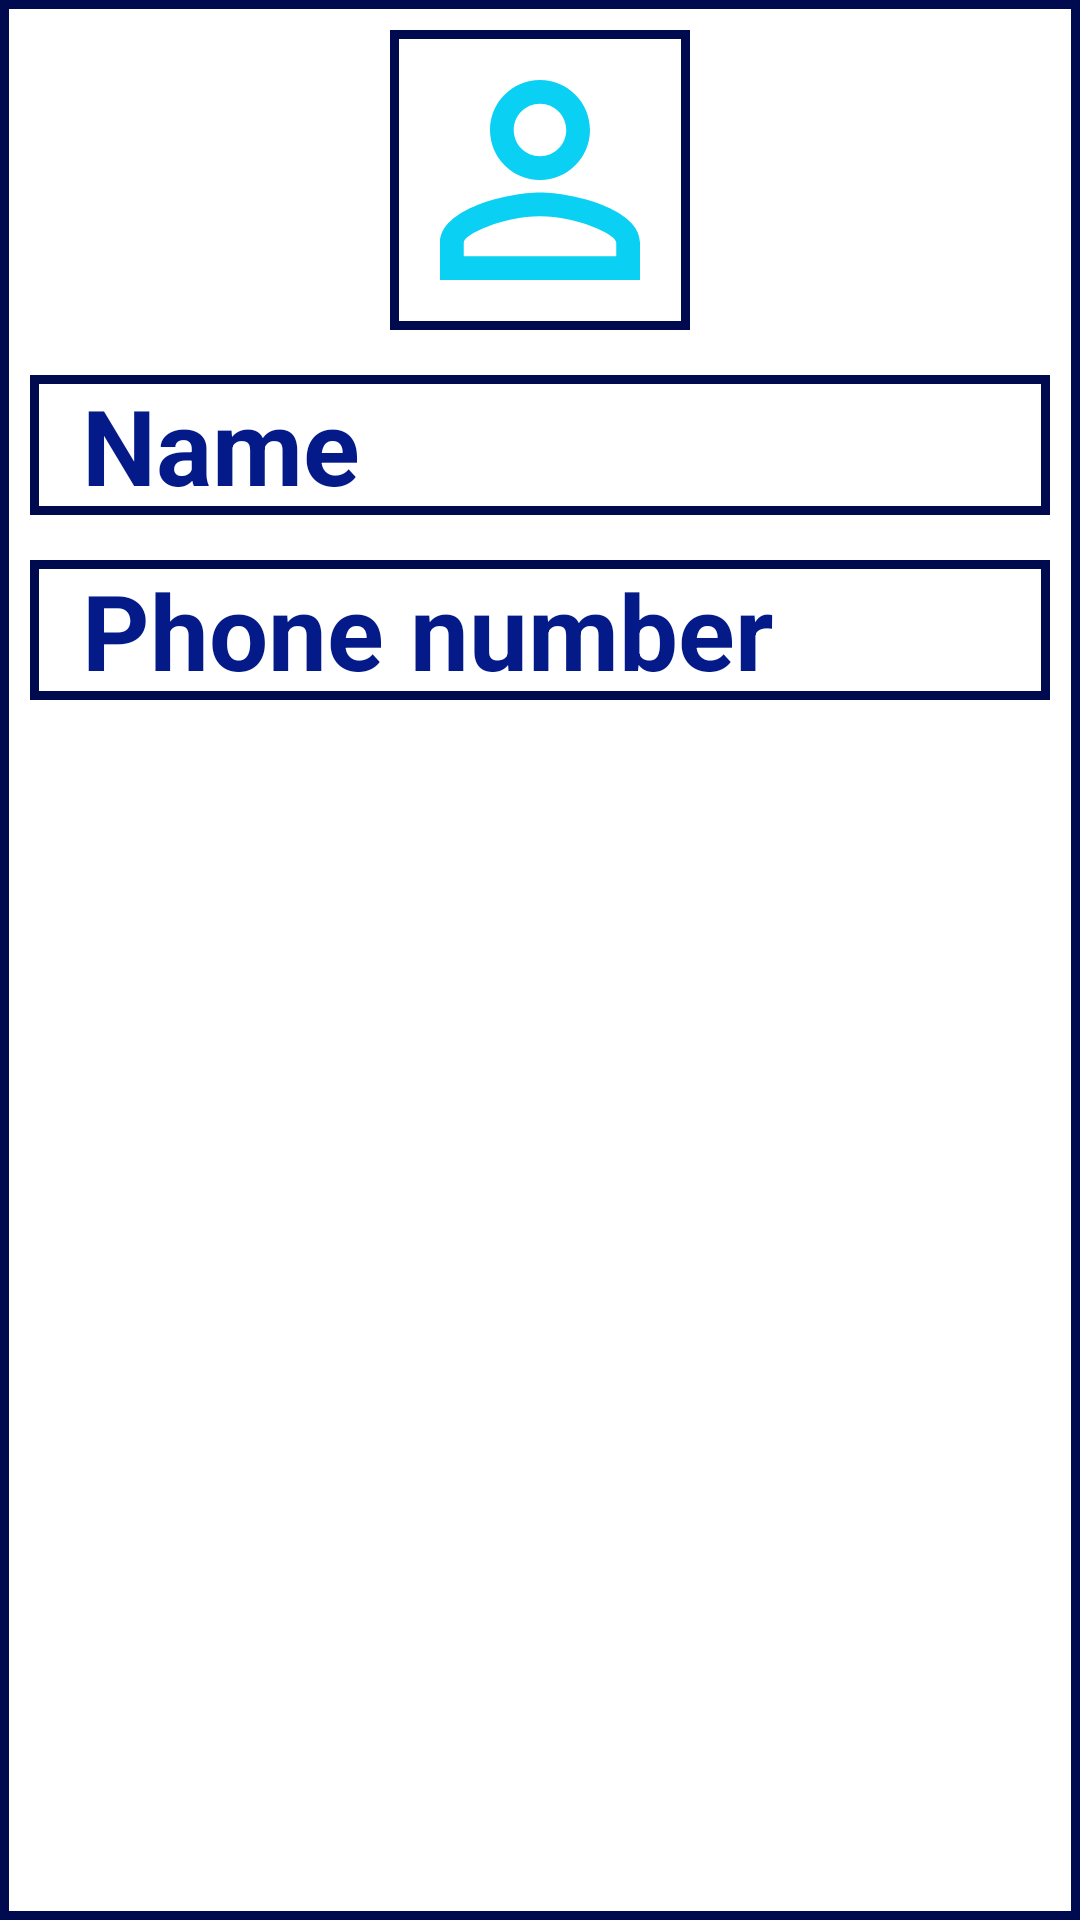

Icon bounding boxes for this 1080w x 1920h phone screenshot, format box(x1, y1, x2, y2):
person: box(390, 30, 690, 330)
